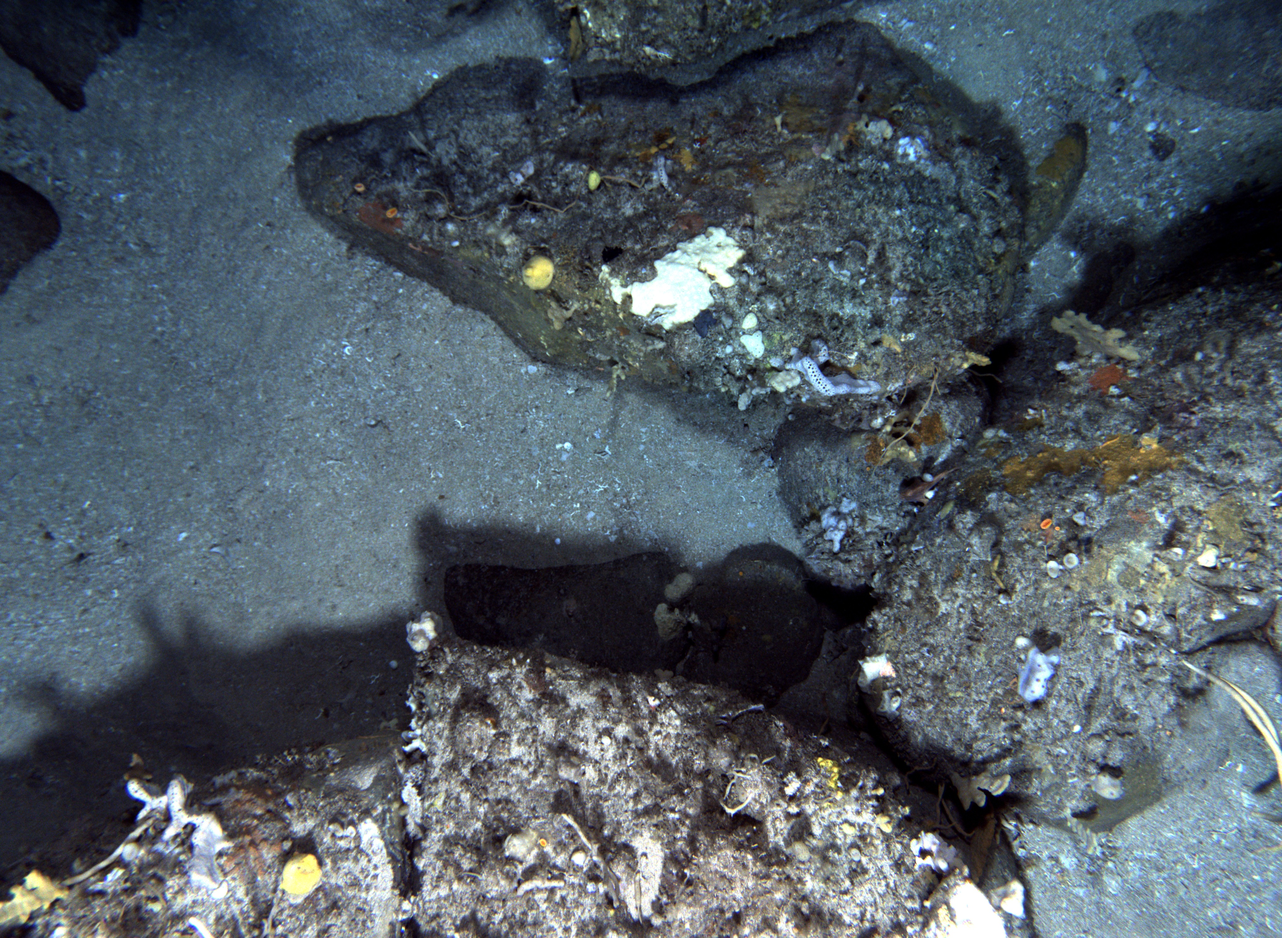Brachionichthyidae: (896, 463, 964, 510)
